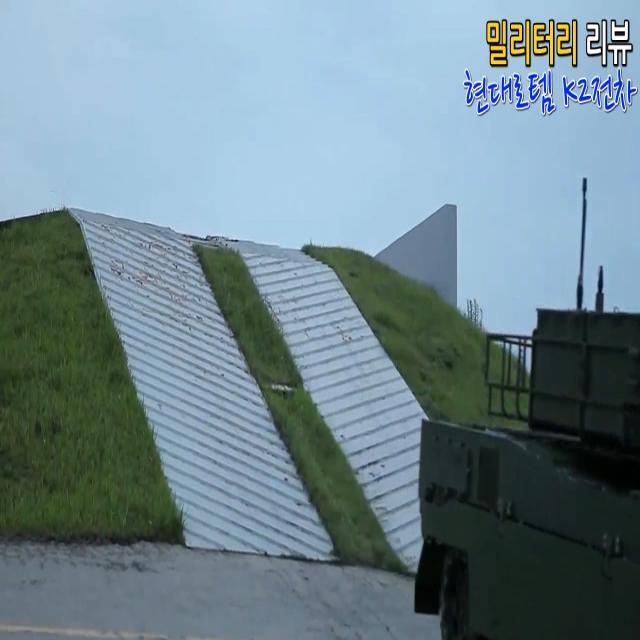korea tank: (413, 178, 640, 640)
